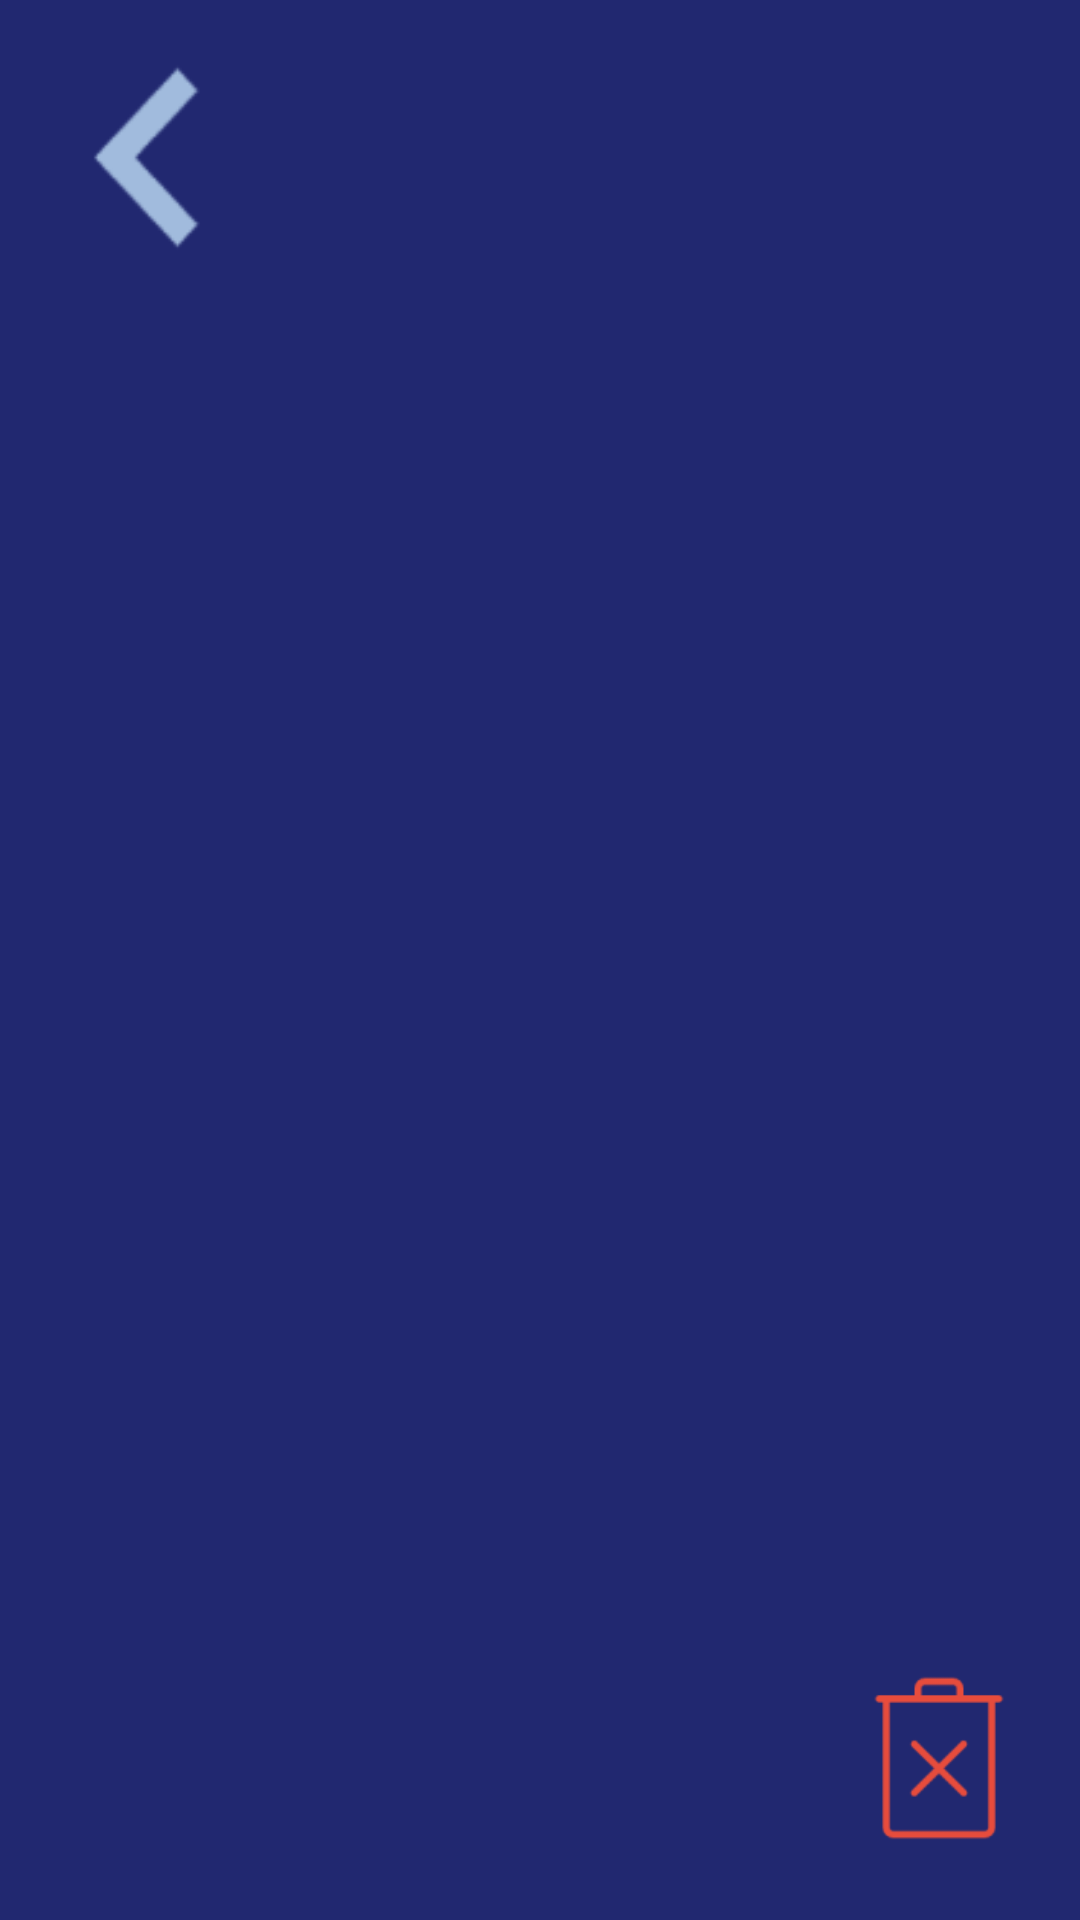

Named icons in this screenshot (1080 x 1920) and their bounding boxes, (x1, y1, x2, y2):
back: (94, 68, 198, 247)
delete: (875, 1677, 1003, 1839)
